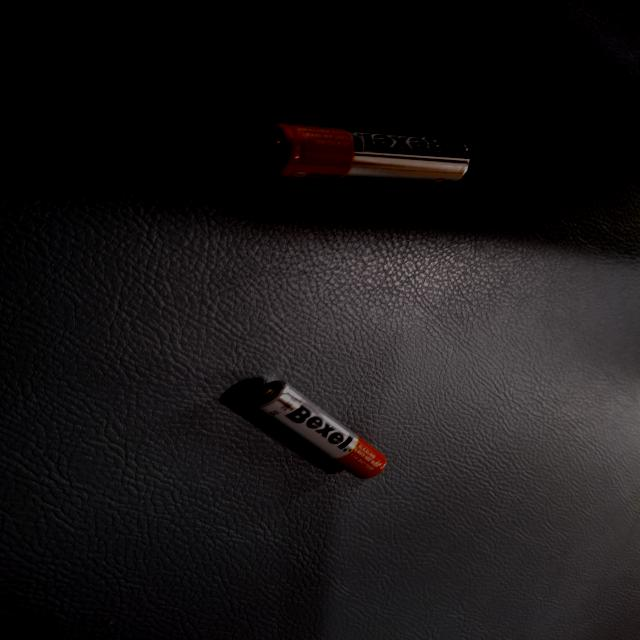AA: (171, 456, 384, 520)
AAA: (256, 160, 392, 260)
